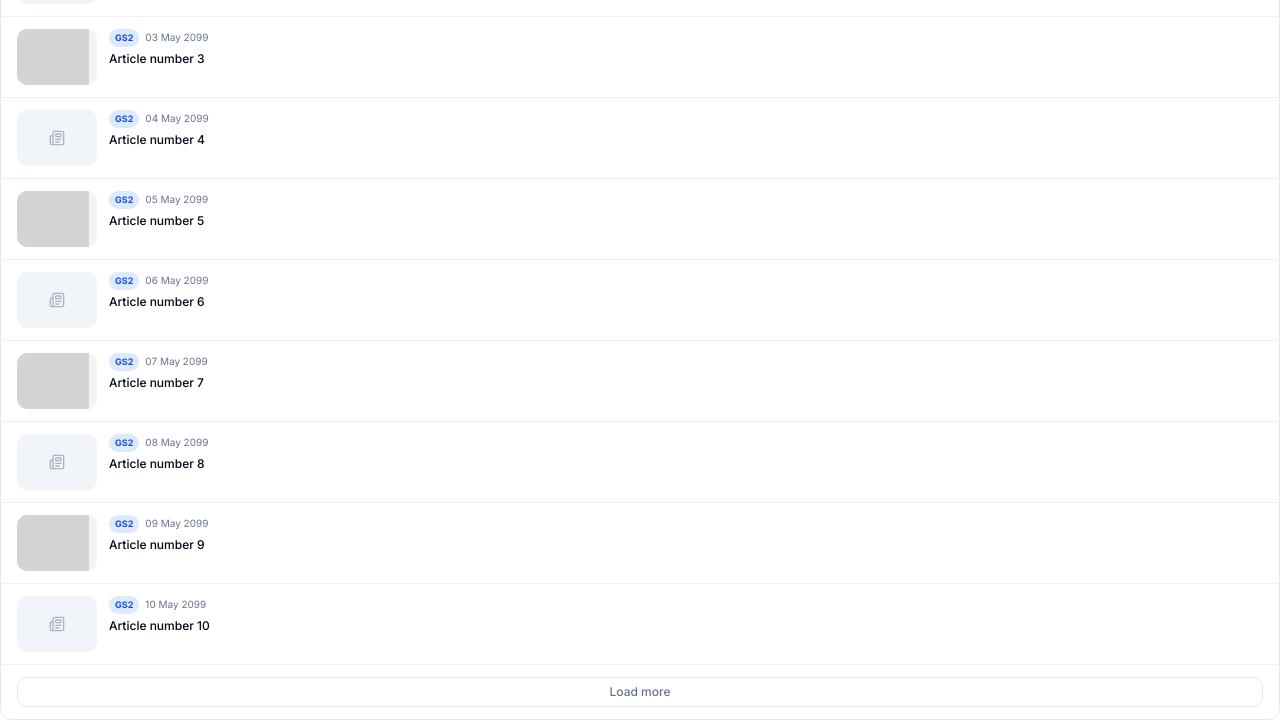
RecentCurrentAffairs › Load more appends the next page and hides itself on the last one
(page scrolled)
expect the text "Article number 10" is shown: met, box [109,618,210,634]
Click the button "Load more" at (640, 692), box [17,677,1263,707]
(page scrolled)
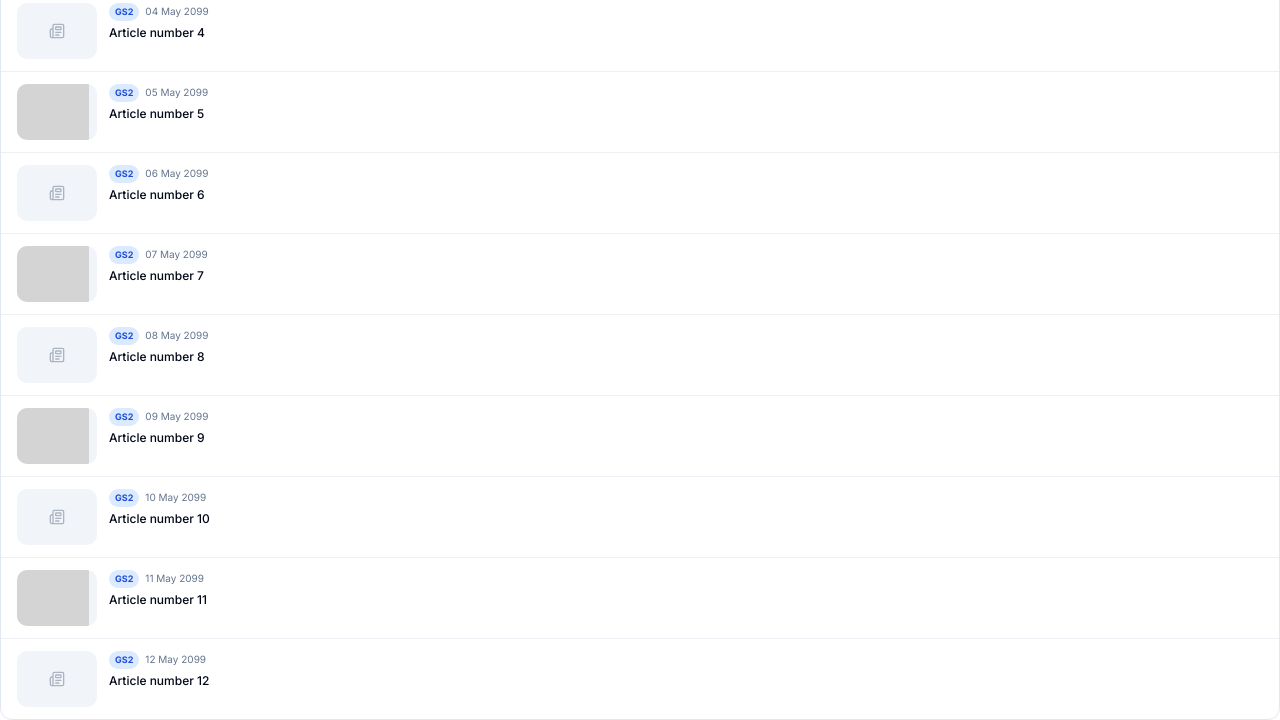
expect the text "Article number 12" is shown: met, box [109,672,209,689]
expect the number of links is 12: met
expect the button "Load more" is gone: met
